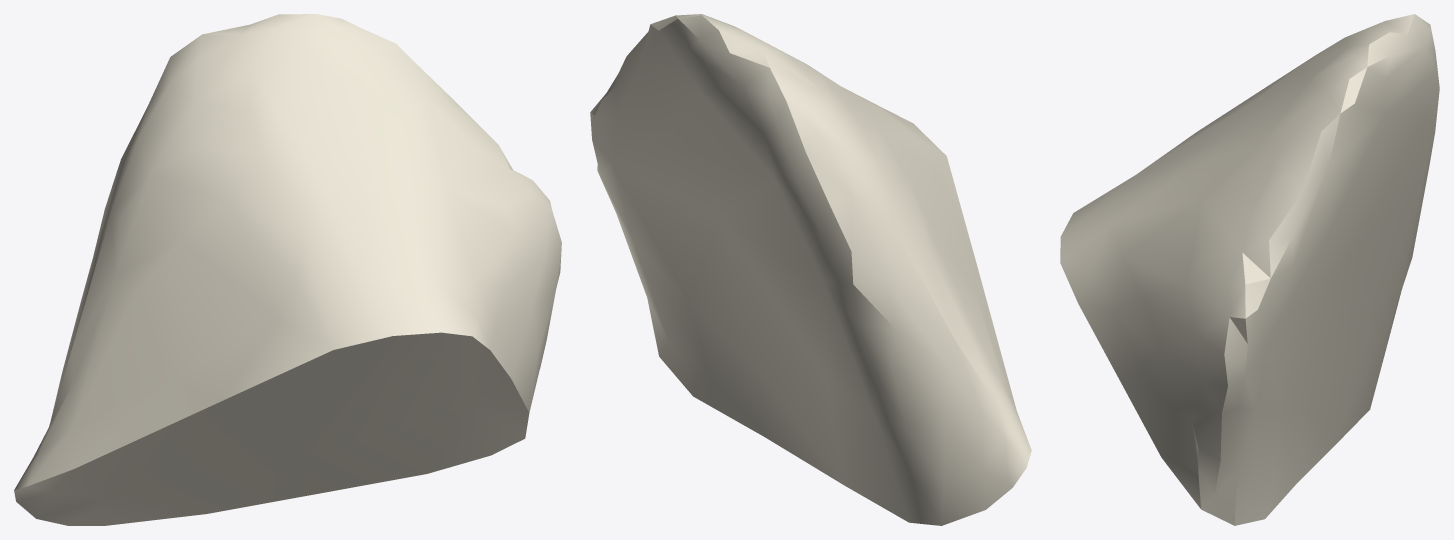
The model's file is fma12098_mm2391.glb.
3 views of the same model, side by side, from view 1: azimuth 30°, elevation 25°; view 2: azimuth 150°, elevation 25°; view 3: azimuth 270°, elevation 25° (orthographic). The views are drawn at different scales.
Parts seen in each view (by area): view 1: FMA12098_MM2391; view 2: FMA12098_MM2391; view 3: FMA12098_MM2391.
Boxes of the visible parts, box(x1,y1,x2,y2) form: FMA12098_MM2391: box(14, 14, 561, 525); FMA12098_MM2391: box(590, 14, 1031, 525); FMA12098_MM2391: box(1060, 14, 1439, 525).
Size of the model in its own units: 0.0127 by 0.0114 by 0.00836.
